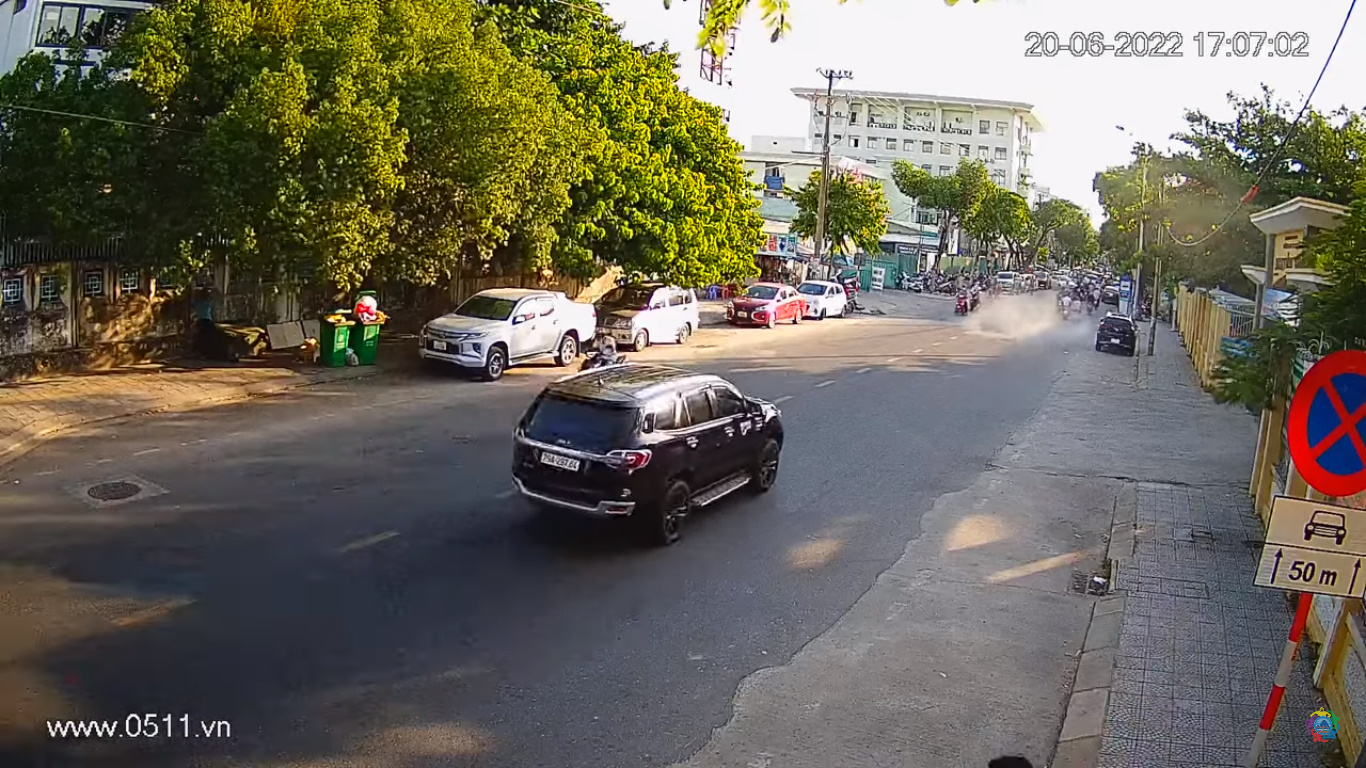car: (505, 372, 788, 539)
